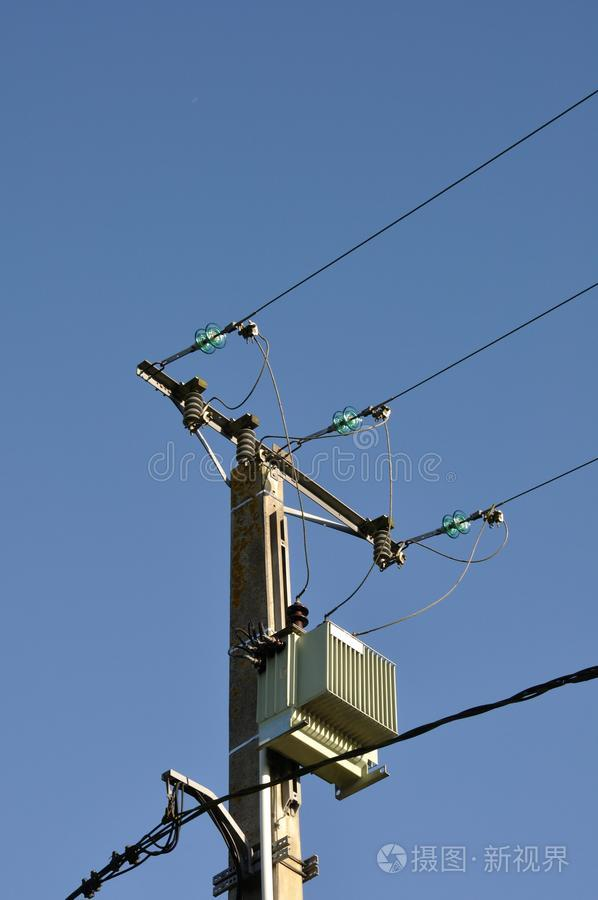insulator: (192, 323, 227, 358), (328, 407, 361, 439), (440, 509, 472, 538)
